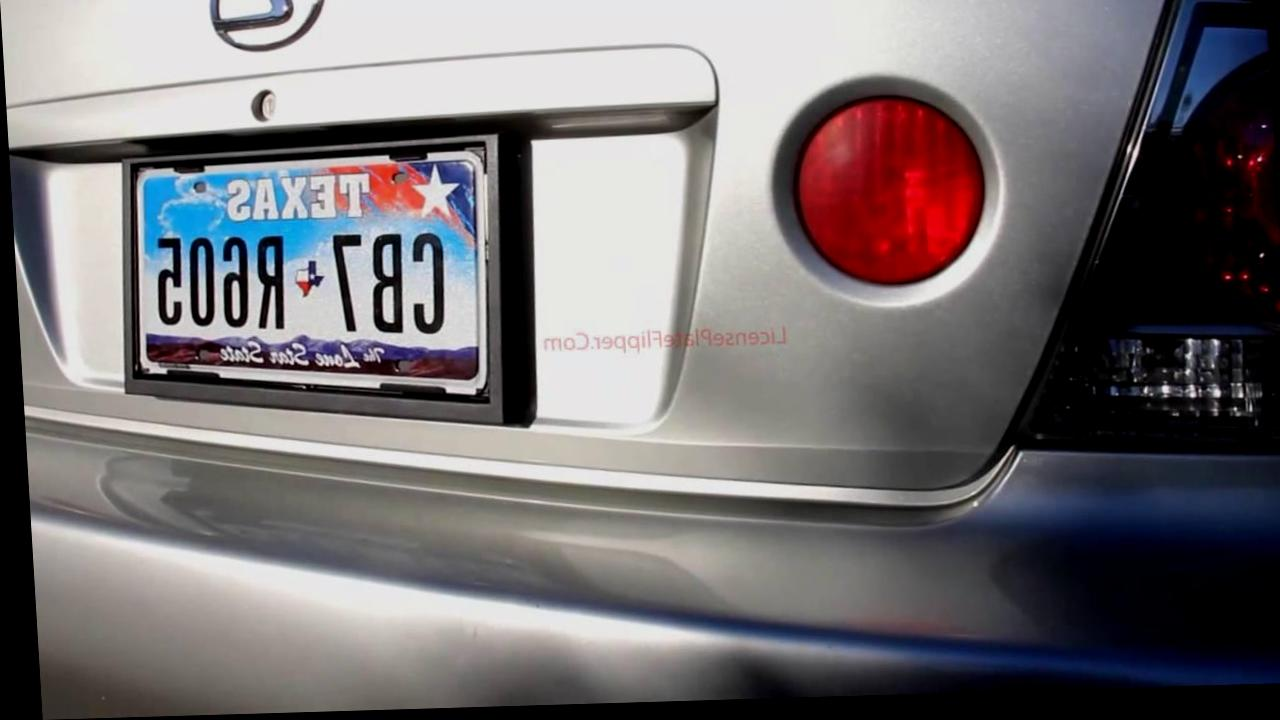License_Plate: (101, 116, 533, 435)
